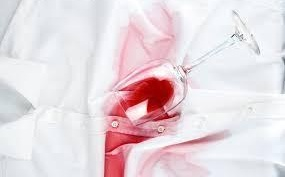wine: (99, 106, 172, 176), (120, 9, 179, 81), (150, 143, 214, 176)
